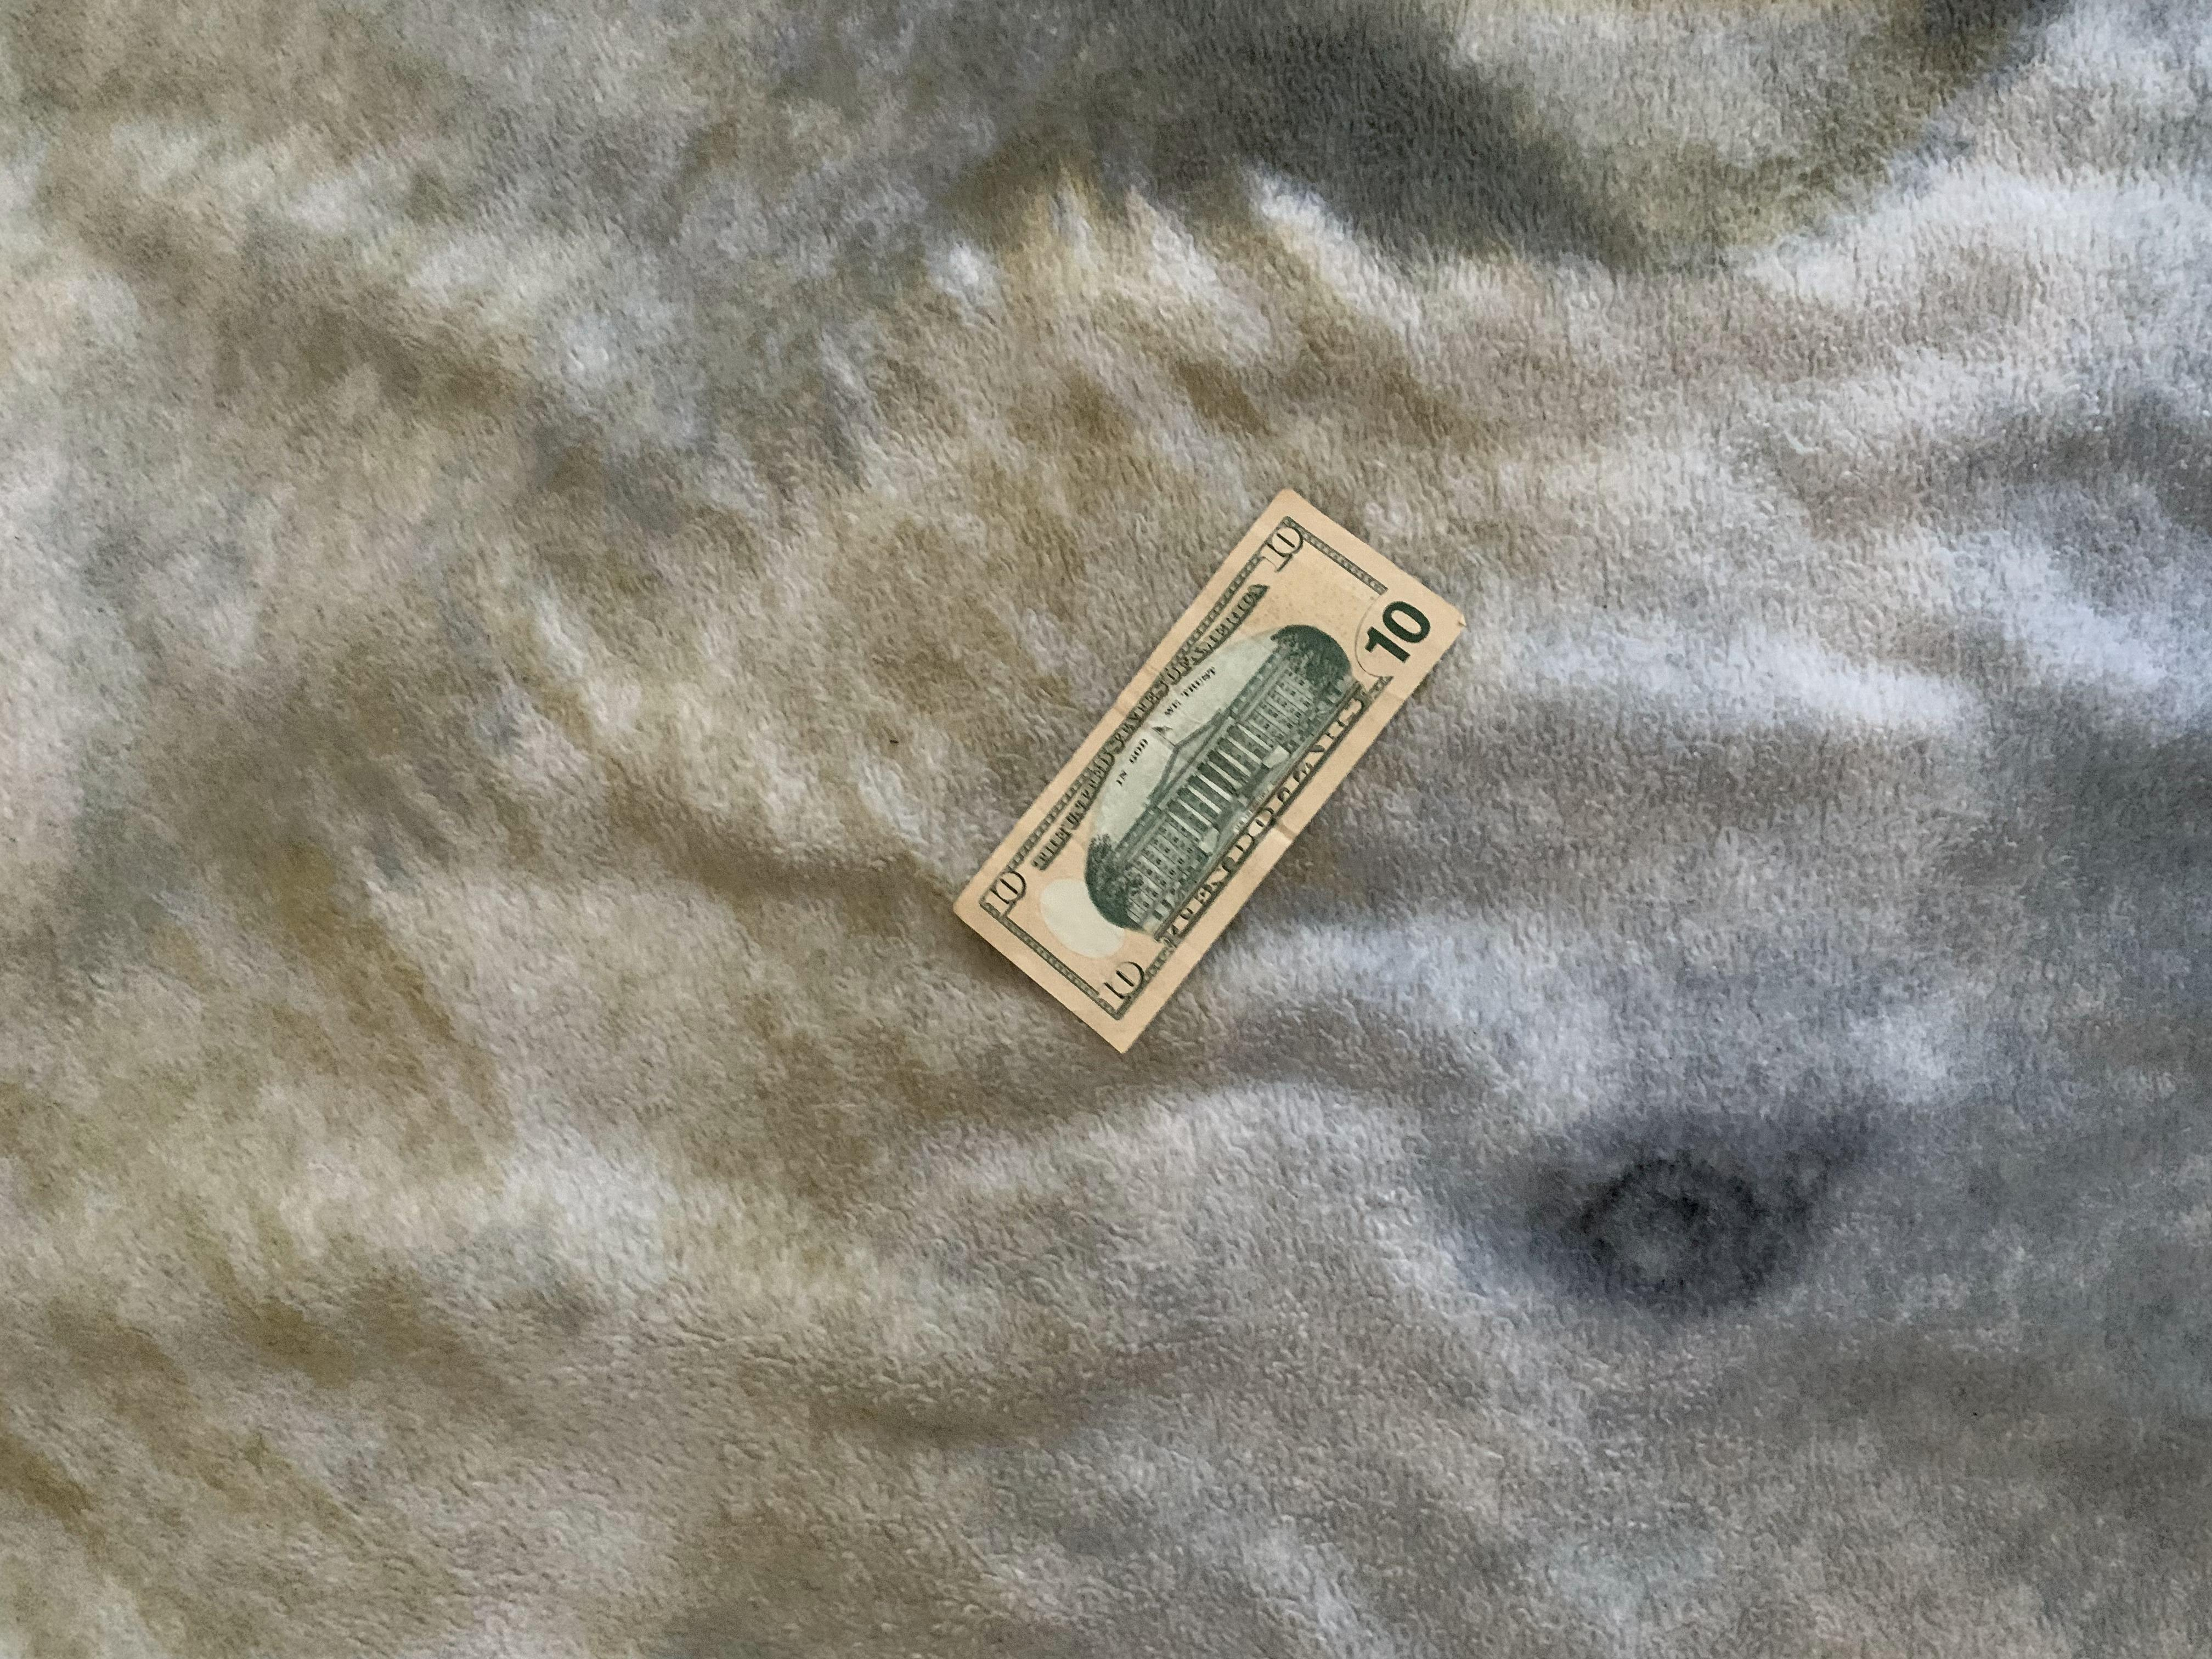TenBill: (942, 476, 1472, 1065)
